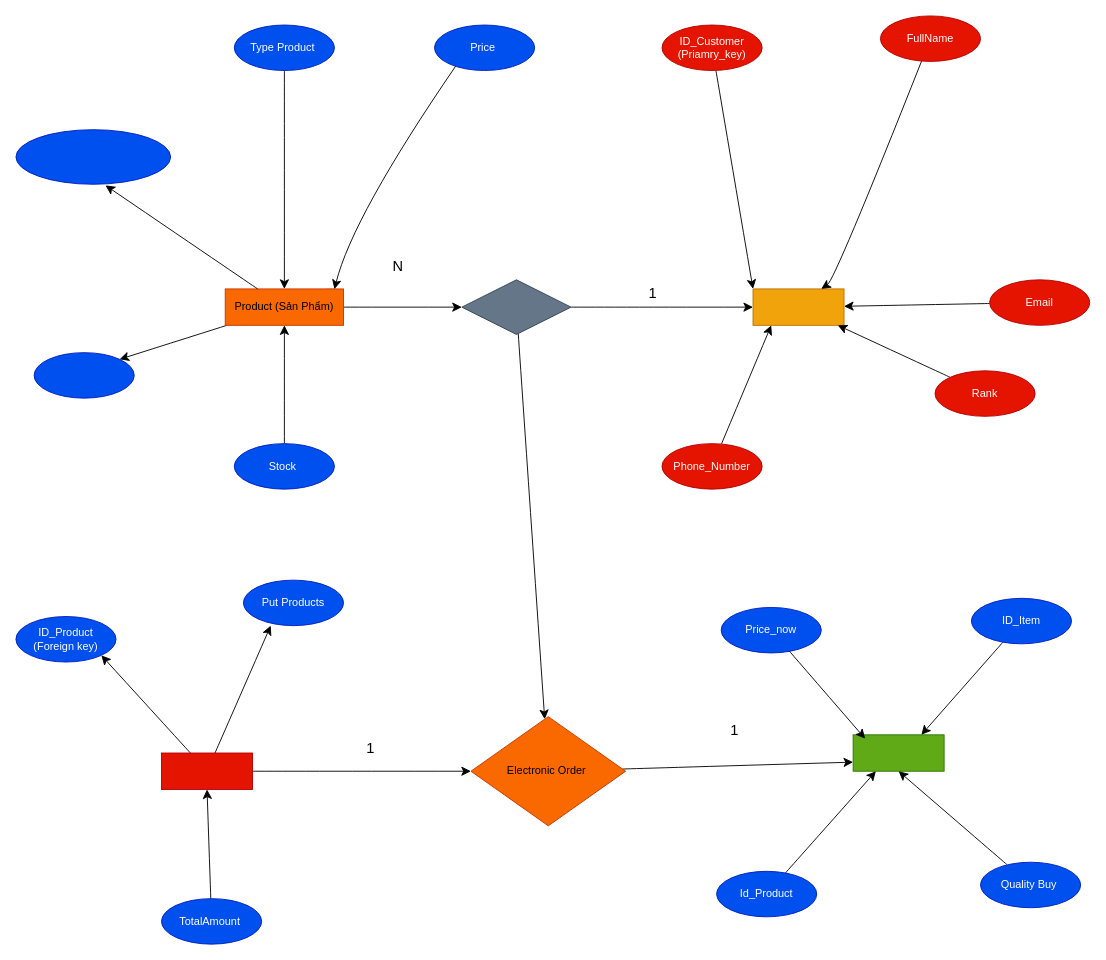
The diagram is 1106 pixels wide and 960 high, and some of its shapes have lost their labels. Here are the shapes that lost their labels. From the top down, the centre of each, then its label:
At (x=93, y=156): "ID_Product(Priamry_key)".
At (x=516, y=306): "Buy".
At (x=798, y=306): "Customer".
At (x=83, y=375): "ProductName".
At (x=207, y=770): "Orders".
At (x=898, y=752): "Order_detail".
